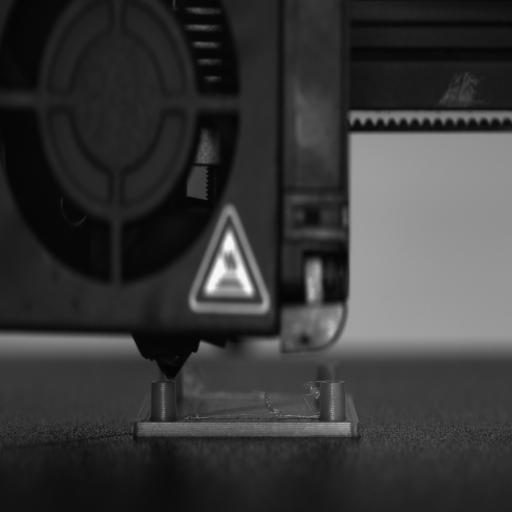spaghetti_and_stringing: (262, 393, 316, 420)
